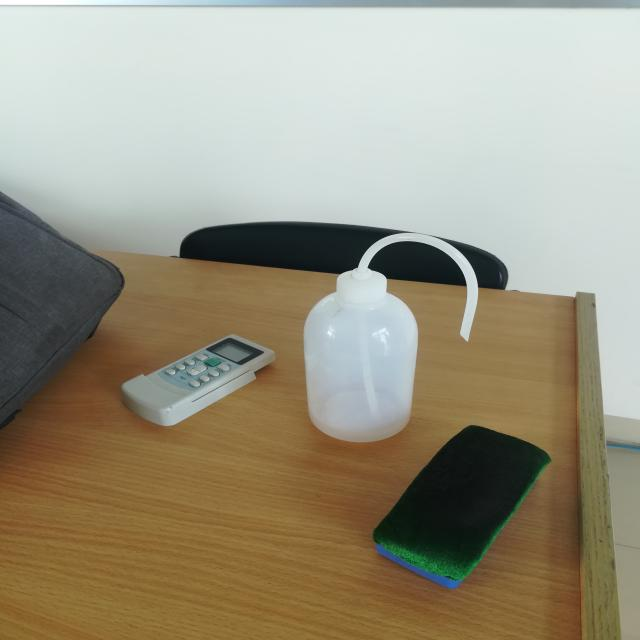Wash_Bottle: (265, 200, 518, 468)
